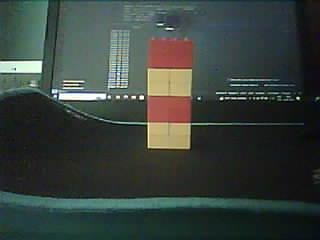lego: (146, 37, 194, 150)
